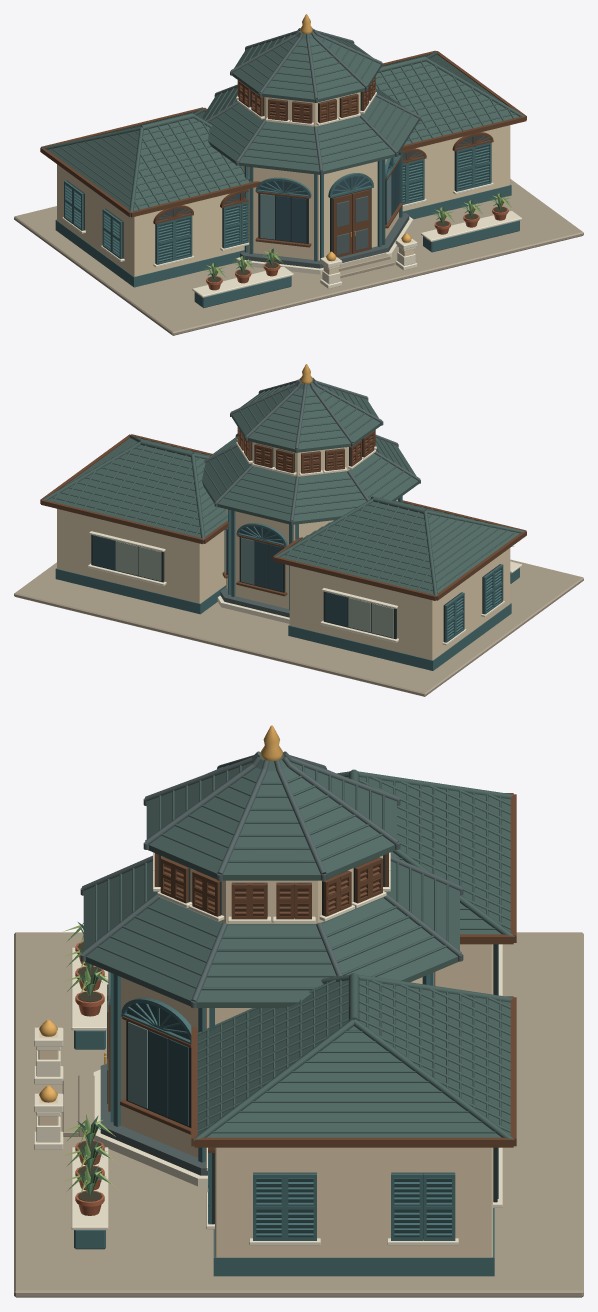
3 views of the same model, one above another, from view 1: azimuth 30°, elevation 25°; view 2: azimuth 150°, elevation 25°; view 3: azimuth 270°, elevation 25° (orthographic). The views are drawn at different scales.
Parts seen in each view (by area): view 1: Entrance terrace, Eight hipped roof planes, Roof covering, Lime plaster pavilions, Louvred shutters, Casements and sills, Eave fascia, Radial fanlights, Entrance joinery, Potted pandan, Lantern clerestory; view 2: Roof covering, Lime plaster pavilions, Eight hipped roof planes, Entrance terrace, Casements and sills, Louvred shutters, Eave fascia, Lantern clerestory, Radial fanlights; view 3: Entrance terrace, Eight hipped roof planes, Roof covering, Lime plaster pavilions, Louvred shutters, Casements and sills, Eave fascia, Potted pandan, Lantern clerestory, Radial fanlights.
Boxes of the visible parts, left/top/right/bottom form: Entrance terrace: left=14, top=179, right=583, bottom=335; Eight hipped roof planes: left=202, top=28, right=420, bottom=175; Roof covering: left=42, top=51, right=524, bottom=214; Lime plaster pavilions: left=55, top=125, right=511, bottom=287; Louvred shutters: left=62, top=77, right=493, bottom=267; Casements and sills: left=255, top=156, right=402, bottom=247; Eave fascia: left=40, top=50, right=526, bottom=217; Radial fanlights: left=153, top=132, right=493, bottom=224; Entrance joinery: left=330, top=188, right=371, bottom=257; Potted pandan: left=202, top=193, right=511, bottom=290; Lantern clerestory: left=263, top=14, right=361, bottom=126; Roof covering: left=42, top=435, right=524, bottom=597; Lime plaster pavilions: left=55, top=496, right=511, bottom=670; Eight hipped roof planes: left=202, top=377, right=420, bottom=525; Entrance terrace: left=14, top=559, right=583, bottom=696; Casements and sills: left=88, top=529, right=398, bottom=642; Louvred shutters: left=236, top=427, right=504, bottom=645; Eave fascia: left=40, top=434, right=526, bottom=600; Lantern clerestory: left=252, top=364, right=349, bottom=476; Radial fanlights: left=226, top=511, right=287, bottom=546; Entrance terrace: left=14, top=932, right=583, bottom=1297; Eight hipped roof planes: left=80, top=751, right=463, bottom=1008; Roof covering: left=193, top=769, right=514, bottom=1142; Lime plaster pavilions: left=110, top=944, right=494, bottom=1276; Louvred shutters: left=153, top=852, right=458, bottom=1245; Casements and sills: left=120, top=944, right=502, bottom=1207; Eave fascia: left=191, top=793, right=516, bottom=1147; Potted pandan: left=63, top=922, right=116, bottom=1215; Lantern clerestory: left=161, top=725, right=382, bottom=923; Radial fanlights: left=109, top=972, right=434, bottom=1152.
Bounding box in the file's own units: 19.48 × 9.91 × 13.04.
